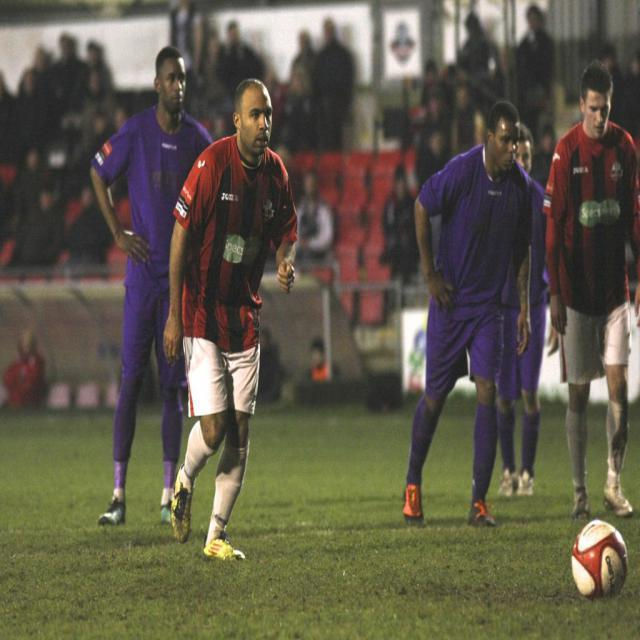football: (565, 512, 637, 608)
